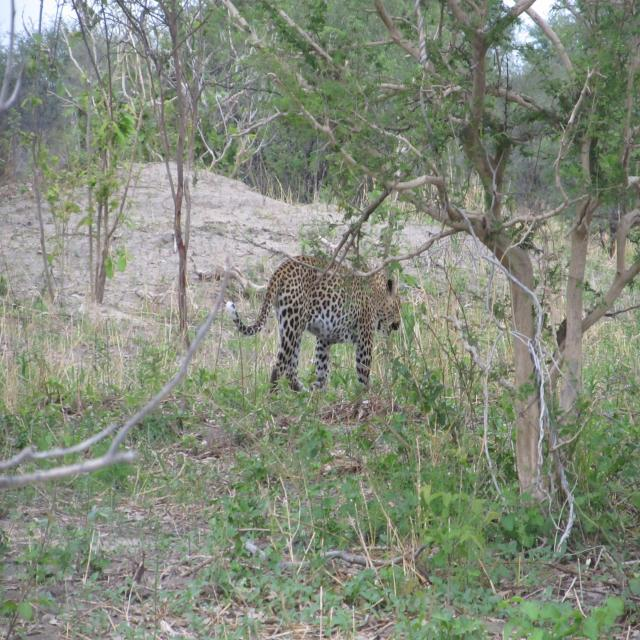Leopard: (224, 249, 403, 404)
